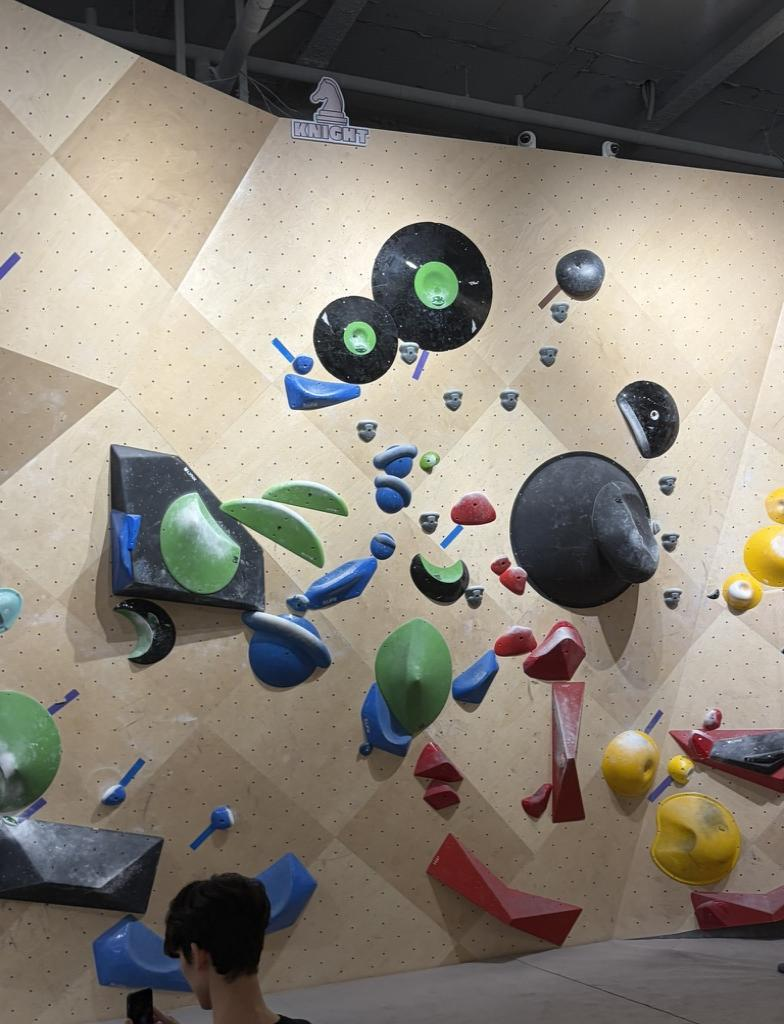crimp: (706, 588, 719, 599)
downhold: (356, 420, 377, 441), (419, 512, 438, 533), (400, 342, 419, 363), (500, 389, 519, 410), (658, 475, 676, 495), (664, 588, 682, 608), (540, 345, 556, 366), (551, 303, 568, 322), (662, 532, 679, 551), (445, 391, 461, 410)
jug: (243, 611, 330, 686), (524, 620, 584, 681), (451, 492, 495, 525), (373, 444, 416, 477), (723, 574, 761, 611), (375, 474, 410, 513), (494, 625, 537, 656), (500, 566, 527, 594), (370, 533, 395, 559), (101, 784, 126, 805), (491, 556, 510, 575), (293, 355, 312, 374)
ledge: (161, 492, 239, 593), (222, 498, 324, 565), (264, 481, 347, 514), (285, 374, 360, 409), (452, 651, 498, 703)
pinch: (552, 683, 584, 820)
pocket: (373, 222, 491, 350), (602, 730, 658, 796)
sidepull: (616, 380, 678, 458), (114, 598, 176, 664), (668, 754, 693, 784)
sloper: (510, 452, 657, 608), (376, 619, 451, 732), (651, 793, 739, 885), (0, 691, 60, 815), (556, 250, 603, 296)
tape: (313, 296, 396, 383), (12, 797, 46, 820), (537, 283, 563, 310), (49, 691, 78, 713), (648, 776, 672, 801), (190, 825, 214, 849), (120, 759, 143, 784), (440, 525, 462, 548), (412, 350, 429, 379), (273, 338, 293, 362), (644, 710, 662, 733)
volume: (111, 445, 262, 610), (428, 835, 581, 944), (0, 820, 161, 913), (670, 729, 783, 792), (692, 885, 783, 929)
